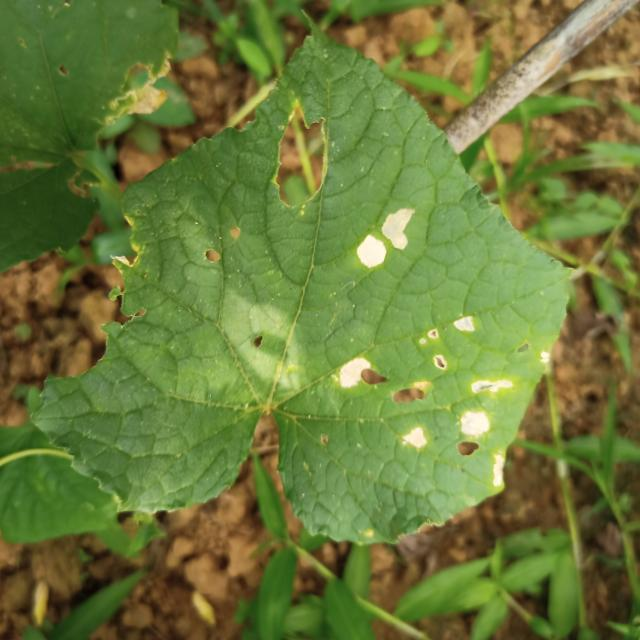disease_cucumber: (339, 314, 512, 490), (358, 209, 413, 267)
